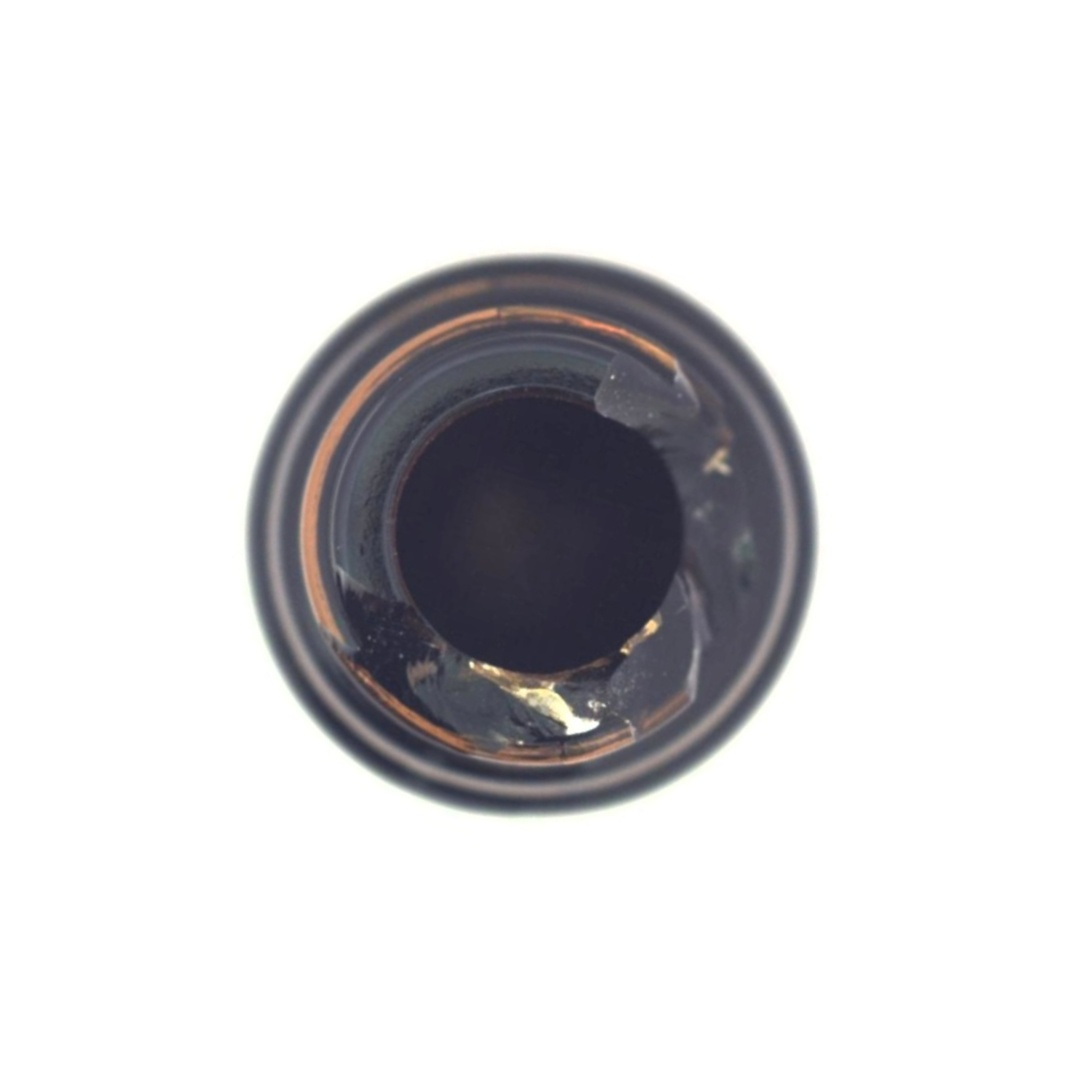bad-broken_large: (48, 53, 1016, 1014)
